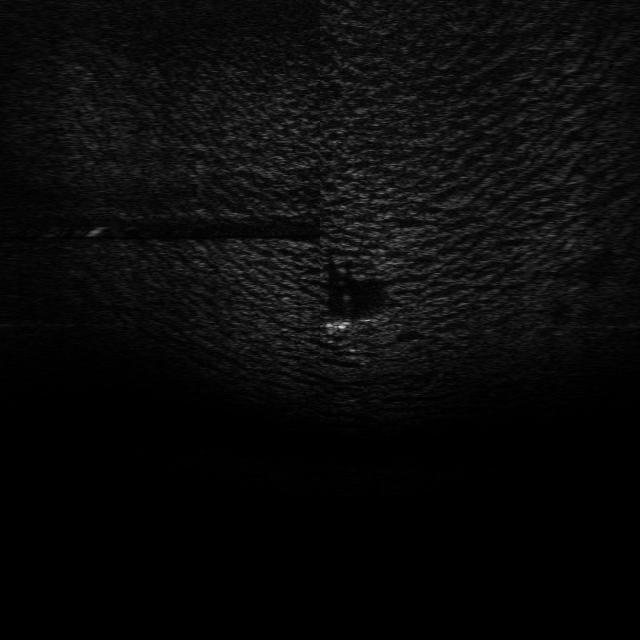plane: (322, 308, 397, 337)
